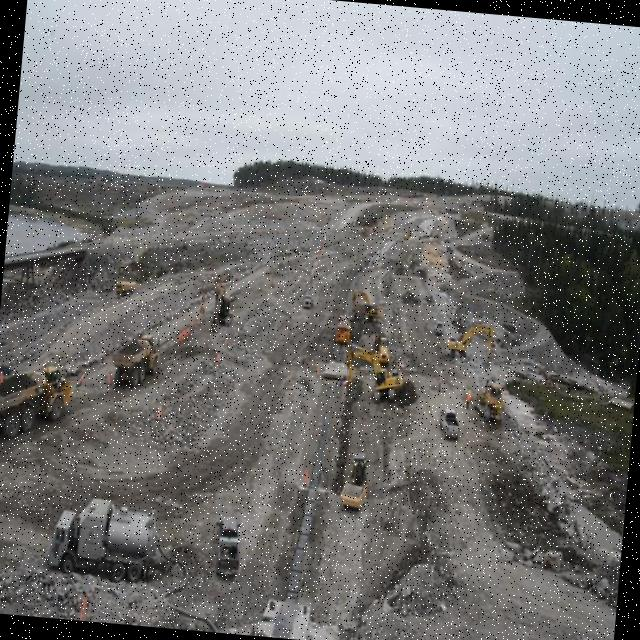Dump Truck: (36, 492, 160, 586), (0, 353, 75, 445), (110, 328, 160, 390), (207, 512, 247, 580), (437, 399, 462, 438), (332, 312, 352, 342), (114, 277, 136, 298), (375, 332, 389, 361), (300, 293, 314, 309), (430, 318, 443, 332)
Excavator: (340, 336, 408, 402), (442, 318, 500, 365), (207, 280, 236, 336), (348, 286, 383, 322)
Roller: (338, 448, 371, 509)
